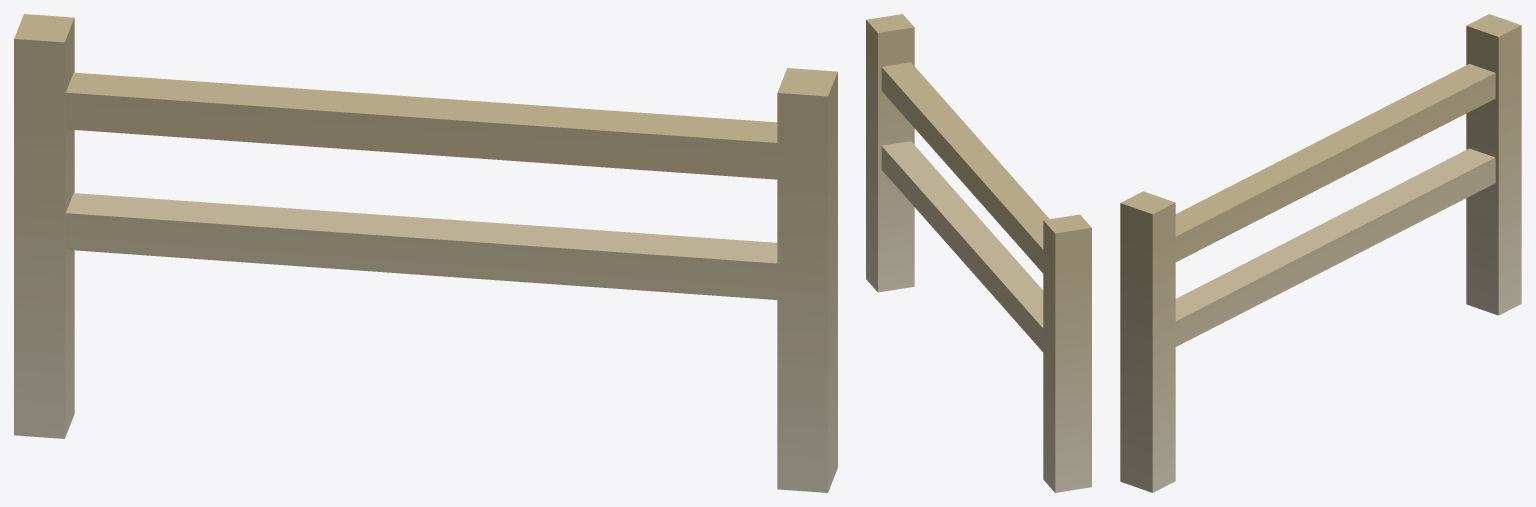
The model's file is SM_Barrier.fbx.
3 views of the same model, side by side, from view 1: azimuth 30°, elevation 25°; view 2: azimuth 150°, elevation 25°; view 3: azimuth 270°, elevation 25° (orthographic). The views are drawn at different scales.
Parts seen in each view (by area): view 1: Cube.006; view 2: Cube.006; view 3: Cube.006.
Boxes of the visible parts, x1,y1,x2,y2 form: Cube.006: (14, 14, 837, 492); Cube.006: (866, 14, 1091, 492); Cube.006: (1120, 14, 1521, 492).
Bounding box in the file's own units: 192 × 125 × 163.
